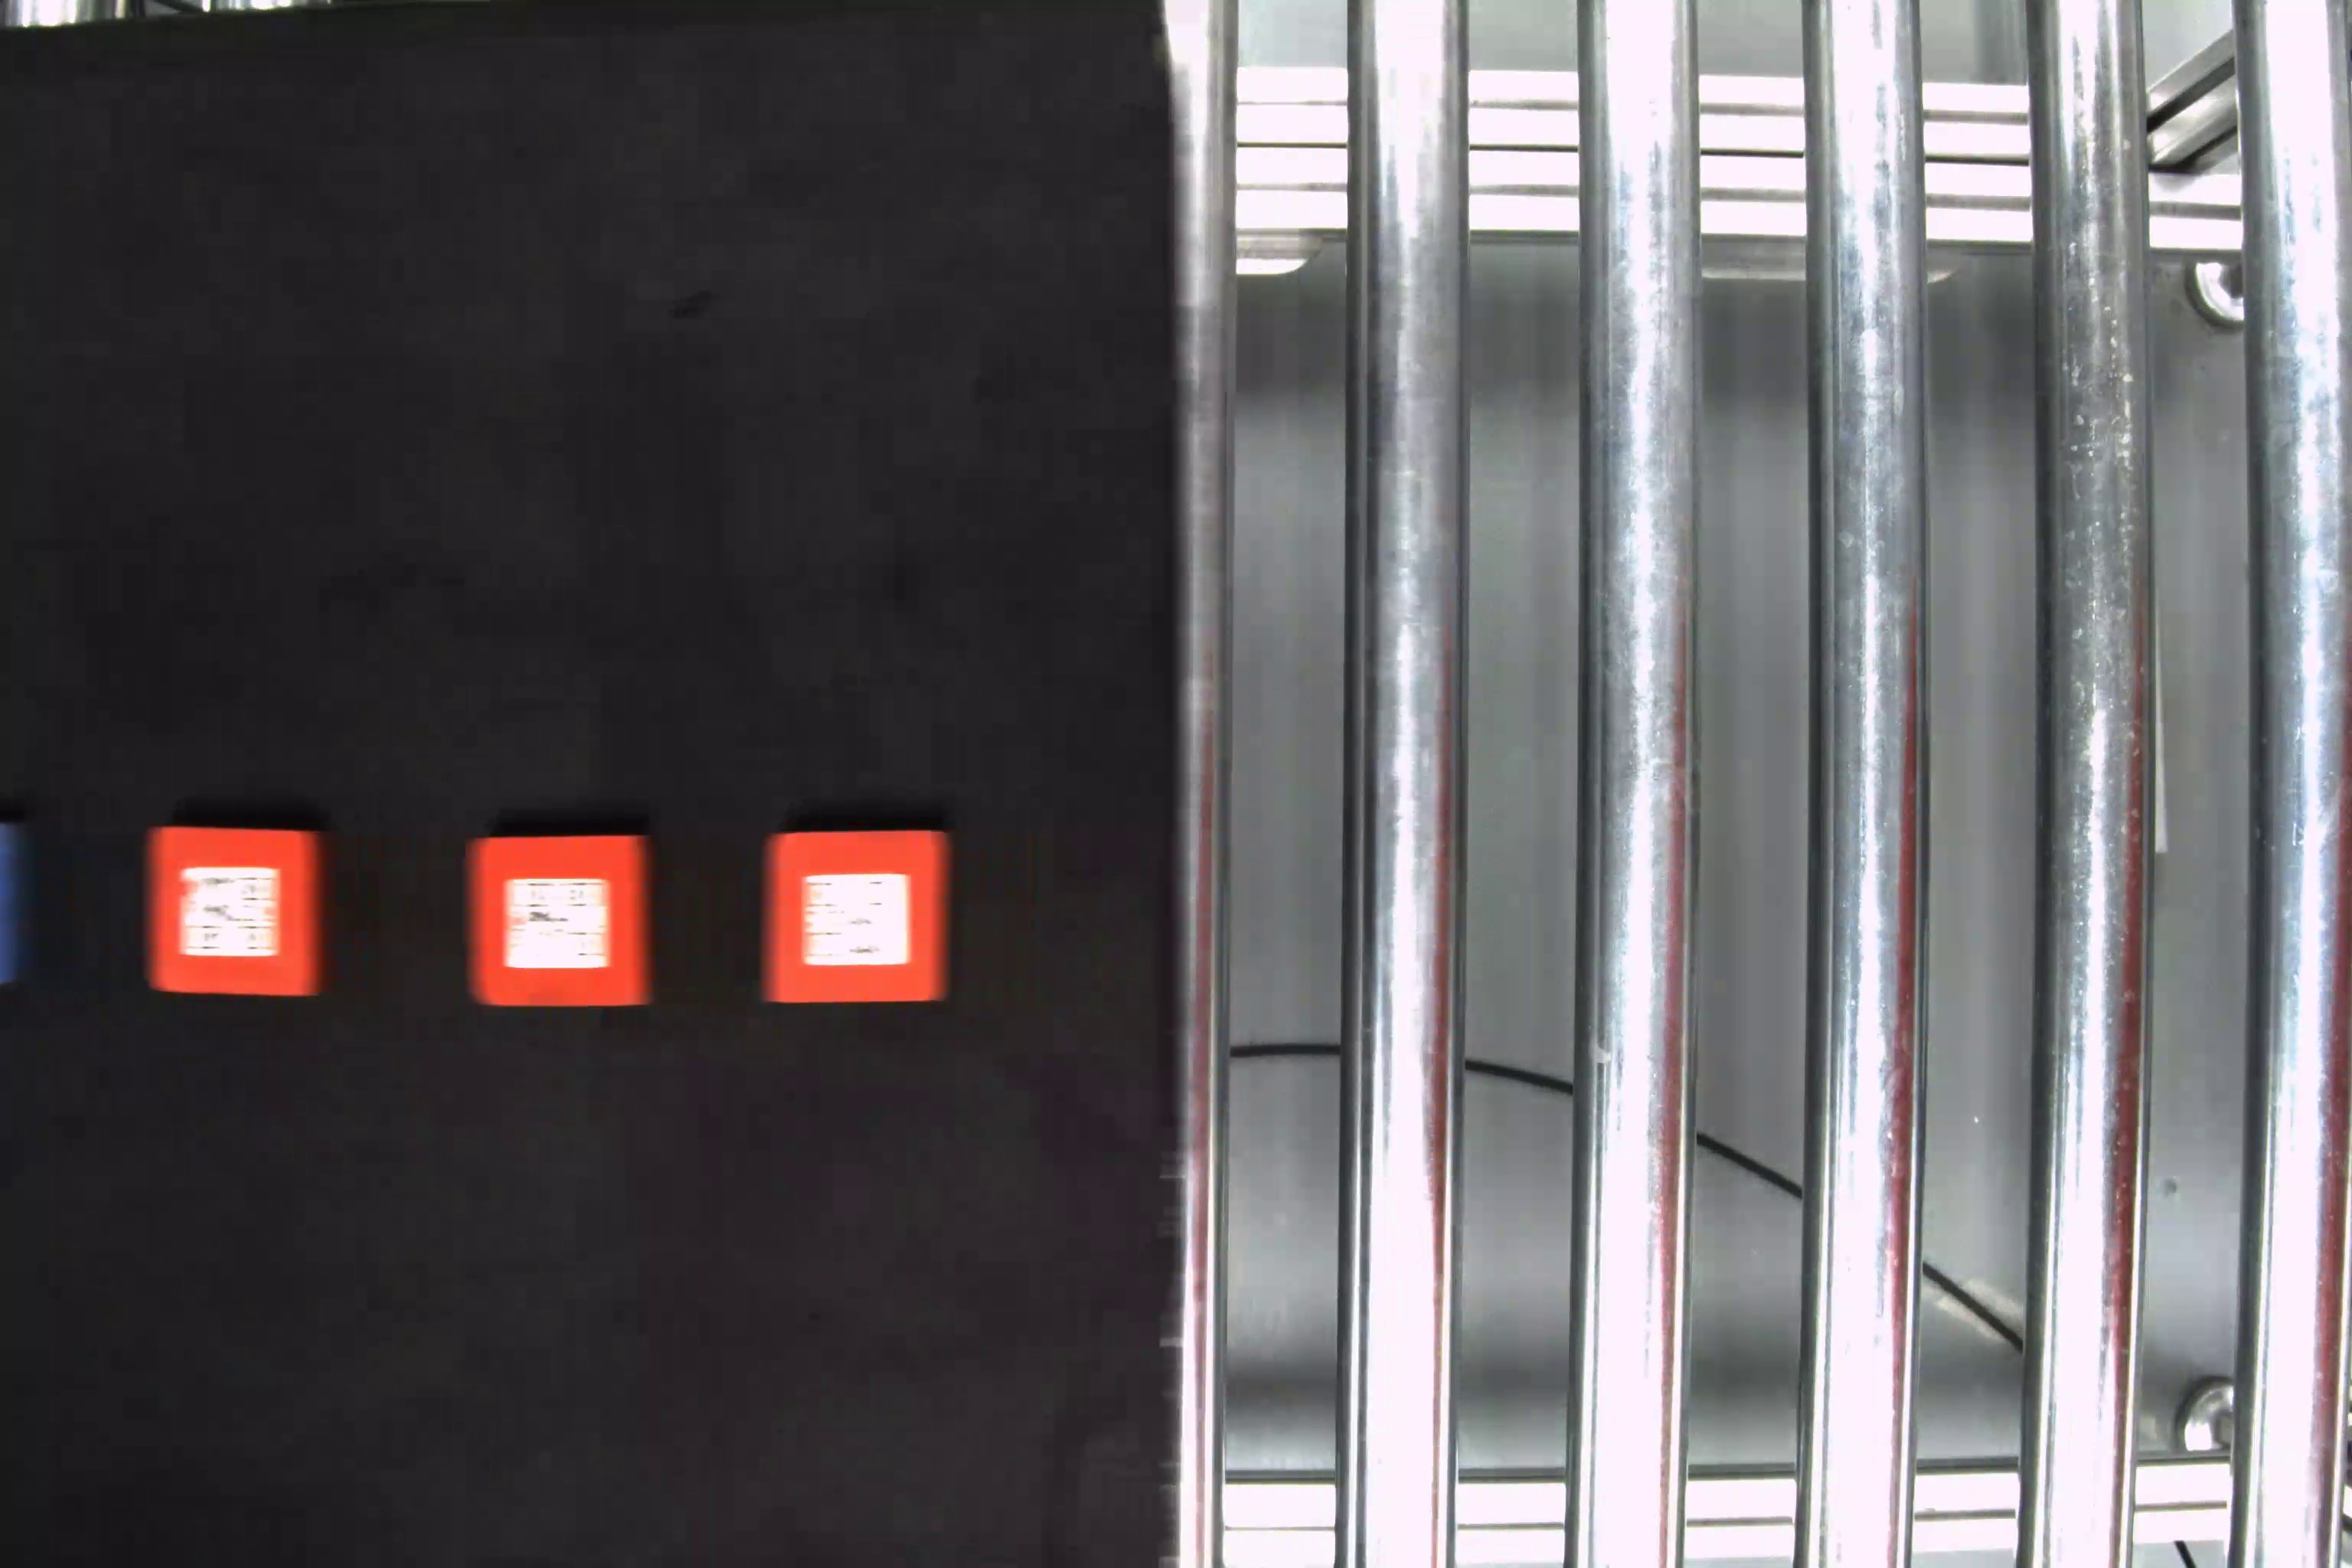wood: (754, 824, 962, 1011), (457, 833, 654, 1013), (138, 824, 334, 1003)
